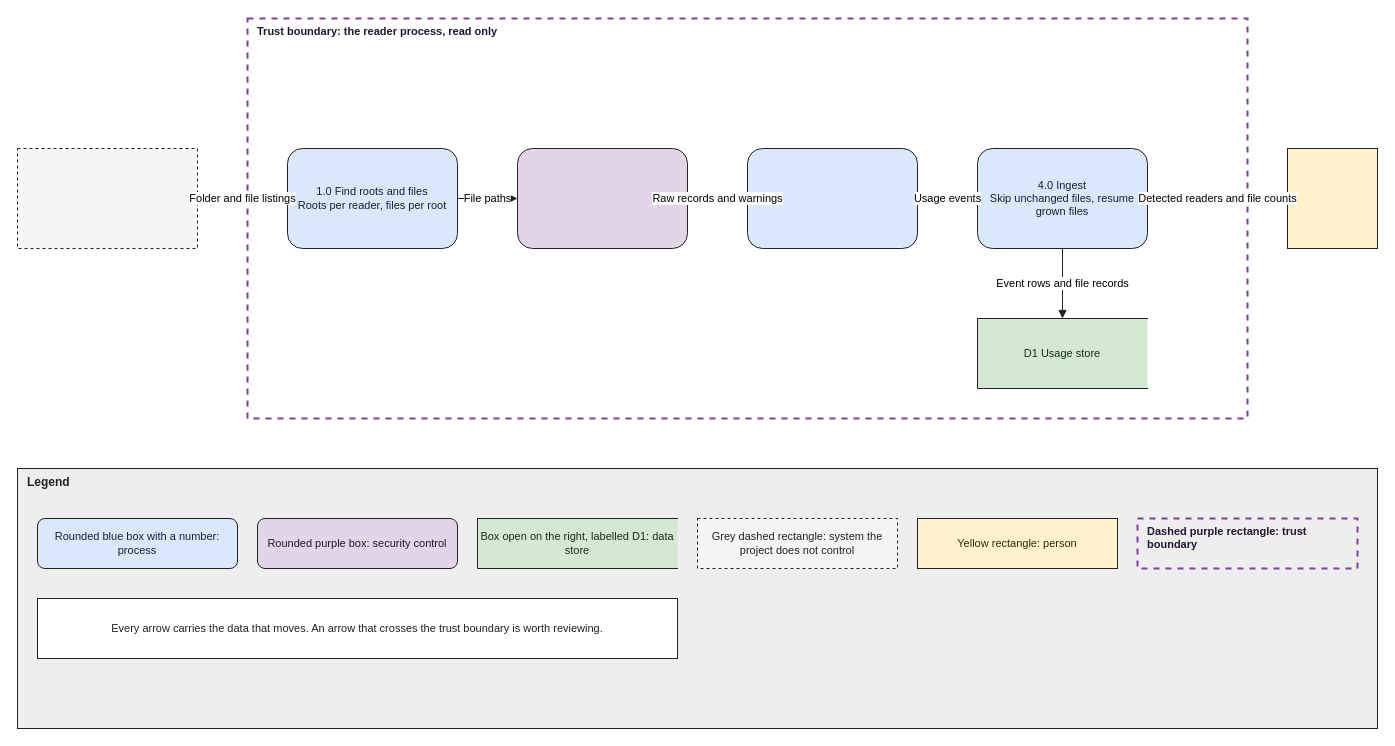
The diagram is 1395 pixels wide and 746 high, and some of its shapes have lost their labels. The centre of each missing label's shape, as x and y in pixels:
"2.0 Read records Read only, bad lines skipped and counted" belongs at (x=602, y=198).
"3.0 Map to usage events Model, tokens, session, project, title" belongs at (x=832, y=198).
"AI coding tool files Logs and SQLite stores on this machine" belongs at (x=107, y=198).
"Developer" belongs at (x=1332, y=198).
